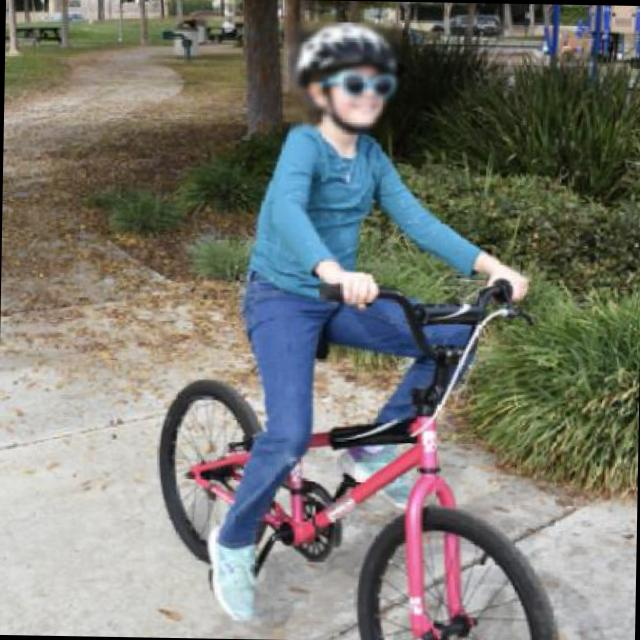With Helmet: (288, 22, 402, 138)
